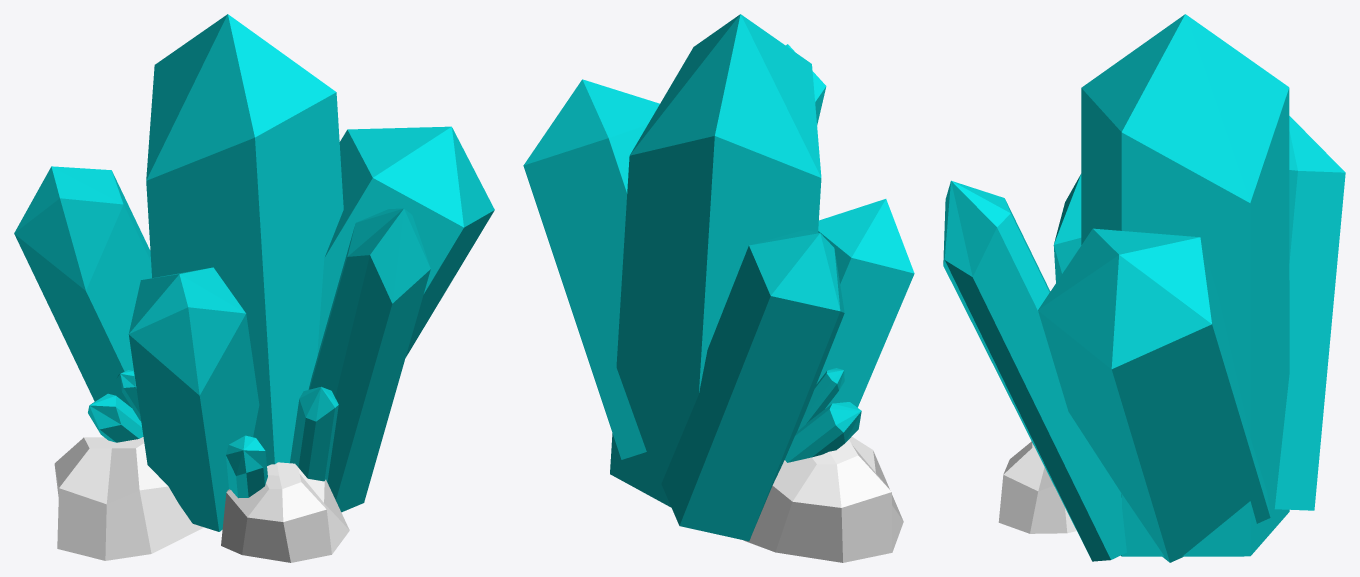
Rendered from Crystal.fbx.
The picture shows the model from 3 angles, left to right: view 1: azimuth 30°, elevation 25°; view 2: azimuth 150°, elevation 25°; view 3: azimuth 270°, elevation 25°; orthographic projection. The views are drawn at different scales.
Visible parts, largest first — view 1: Plane.009; view 2: Plane.009; view 3: Plane.009.
Boxes of the visible parts, <box> form: Plane.009: <box>14,14,494,562</box>; Plane.009: <box>523,14,914,562</box>; Plane.009: <box>943,14,1345,562</box>.
Size of the model in its own units: 146 by 178 by 124.
